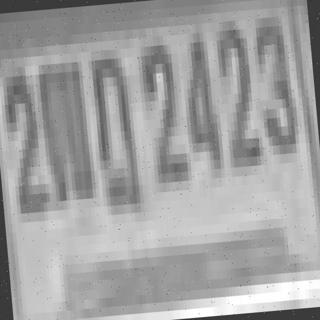A13: (34, 52, 97, 212)
A14: (83, 39, 144, 207)
N02: (207, 10, 261, 168), (136, 35, 188, 184), (0, 66, 48, 214)
N03: (248, 16, 296, 156)
N04: (176, 31, 225, 180)
